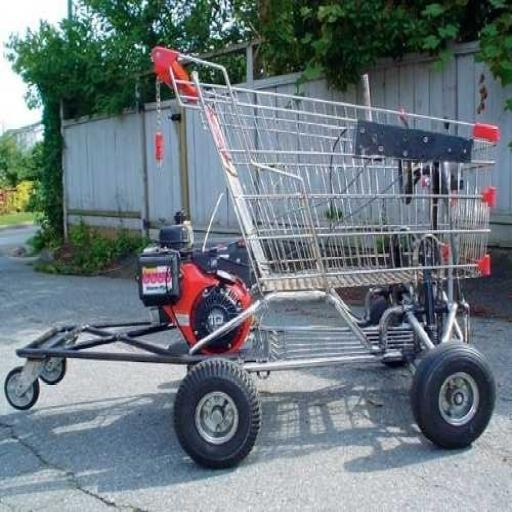shopping_cart: (148, 46, 504, 472)
